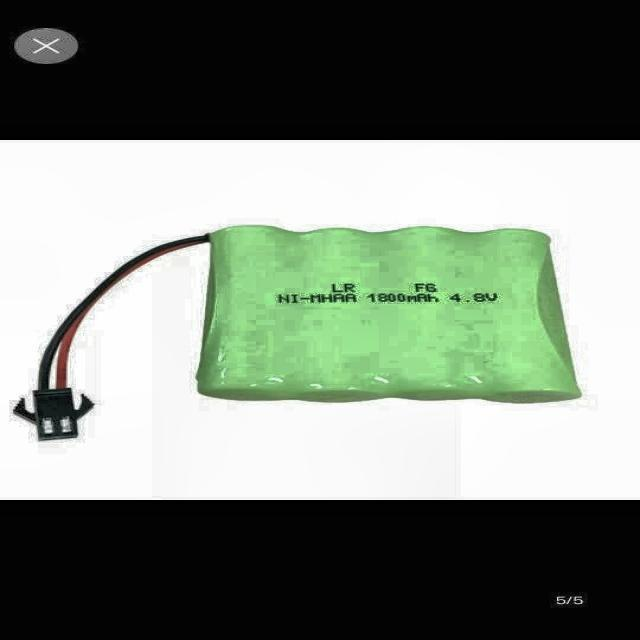battery: (198, 225, 580, 402)
